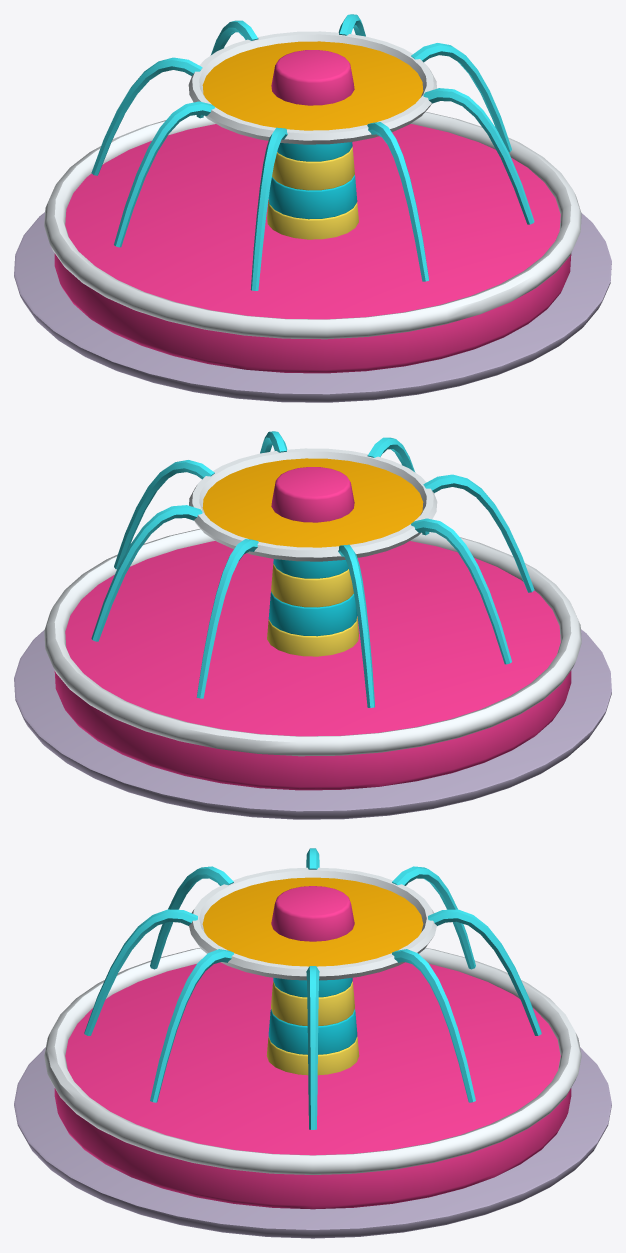
File: lobby_fountain.obj
3 renders of one model, top to bottom at view 1: azimuth 30°, elevation 25°; view 2: azimuth 150°, elevation 25°; view 3: azimuth 270°, elevation 25°, orthographic.
Visible parts, largest first — view 1: lobby_fountain, lobby_fountain_Neon; view 2: lobby_fountain, lobby_fountain_Neon; view 3: lobby_fountain, lobby_fountain_Neon.
Boxes of the visible parts, left/top/right/bottom form: lobby_fountain: left=14, top=31, right=611, bottom=402; lobby_fountain_Neon: left=91, top=14, right=534, bottom=290; lobby_fountain: left=14, top=448, right=611, bottom=819; lobby_fountain_Neon: left=91, top=431, right=534, bottom=707; lobby_fountain: left=14, top=867, right=611, bottom=1238; lobby_fountain_Neon: left=84, top=848, right=541, bottom=1129.
Bounding box in the file's own units: 25.47 × 10.1 × 25.47.
2 materials, 2 textured.
